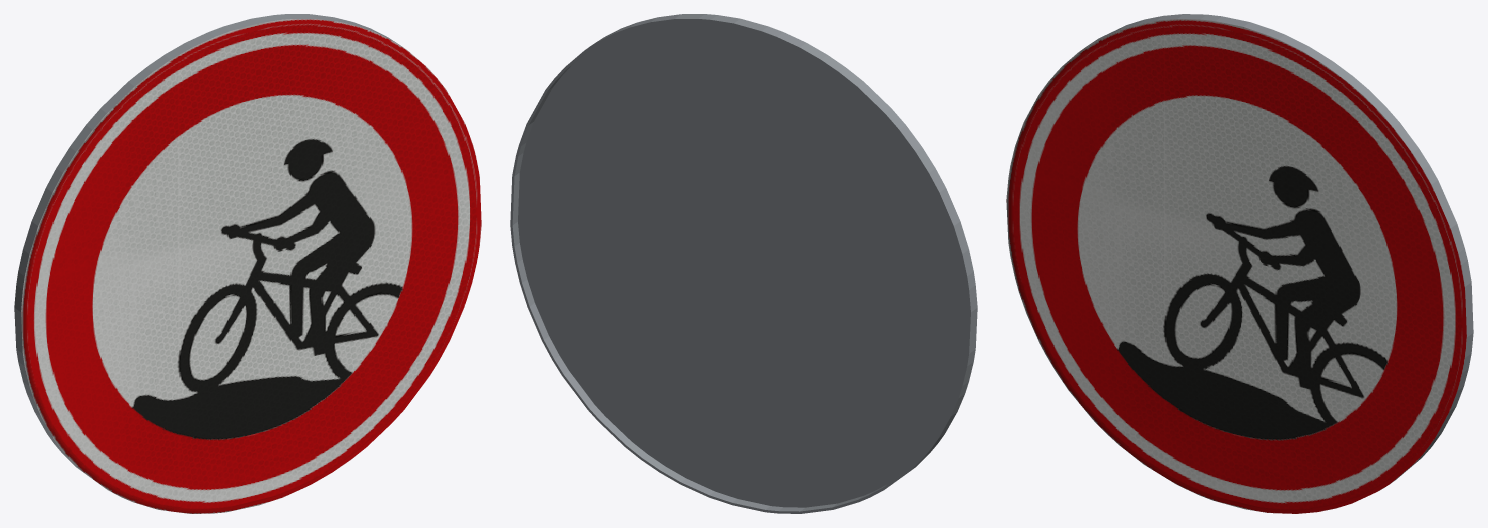
3 views of the same model, side by side, from view 1: azimuth 30°, elevation 25°; view 2: azimuth 150°, elevation 25°; view 3: azimuth 330°, elevation 25° (orthographic).
Parts seen in each view (by area): view 1: cat_6728518204c2196e; view 2: cat_6728518204c2196e; view 3: cat_6728518204c2196e.
Part boxes in pixels (left/top/right/bottom): cat_6728518204c2196e: left=14, top=14, right=481, bottom=513; cat_6728518204c2196e: left=510, top=14, right=977, bottom=513; cat_6728518204c2196e: left=1006, top=14, right=1473, bottom=513.
Size of the model in its own units: 0.6 by 0.015 by 0.6.
Materials: 2 (1 with a texture image).
